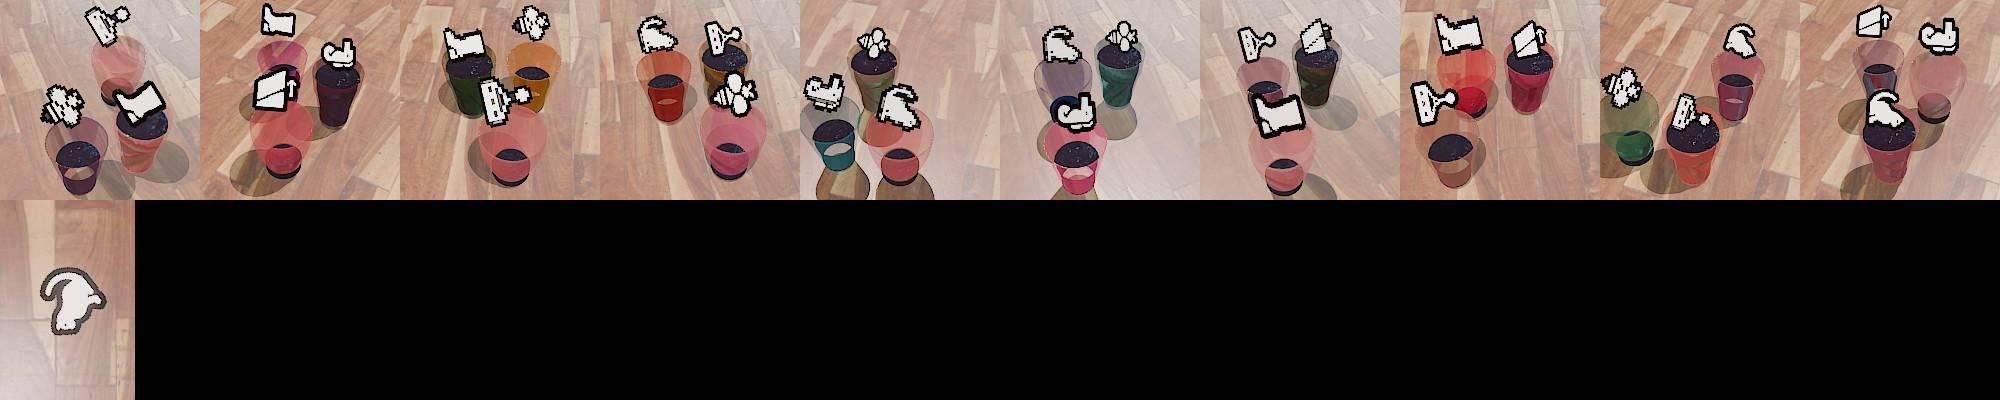icon: (34, 265, 110, 340), (477, 75, 532, 126), (112, 79, 167, 129), (1251, 88, 1307, 136), (876, 83, 923, 131), (710, 70, 760, 116), (253, 65, 300, 112), (1411, 79, 1458, 126), (1051, 87, 1099, 132), (83, 4, 130, 48), (40, 84, 85, 129), (1434, 14, 1483, 55), (635, 14, 680, 56), (1601, 66, 1643, 111), (802, 73, 847, 112), (441, 27, 489, 64), (1866, 89, 1907, 131), (1917, 17, 1960, 56), (1041, 23, 1082, 64), (703, 19, 745, 59), (1510, 19, 1550, 61), (1101, 18, 1142, 56), (1671, 93, 1712, 131), (855, 25, 894, 64), (1236, 25, 1276, 64), (511, 5, 551, 42), (1298, 18, 1334, 57), (261, 3, 298, 39), (1722, 23, 1759, 60), (1855, 4, 1893, 38), (321, 37, 357, 70)
